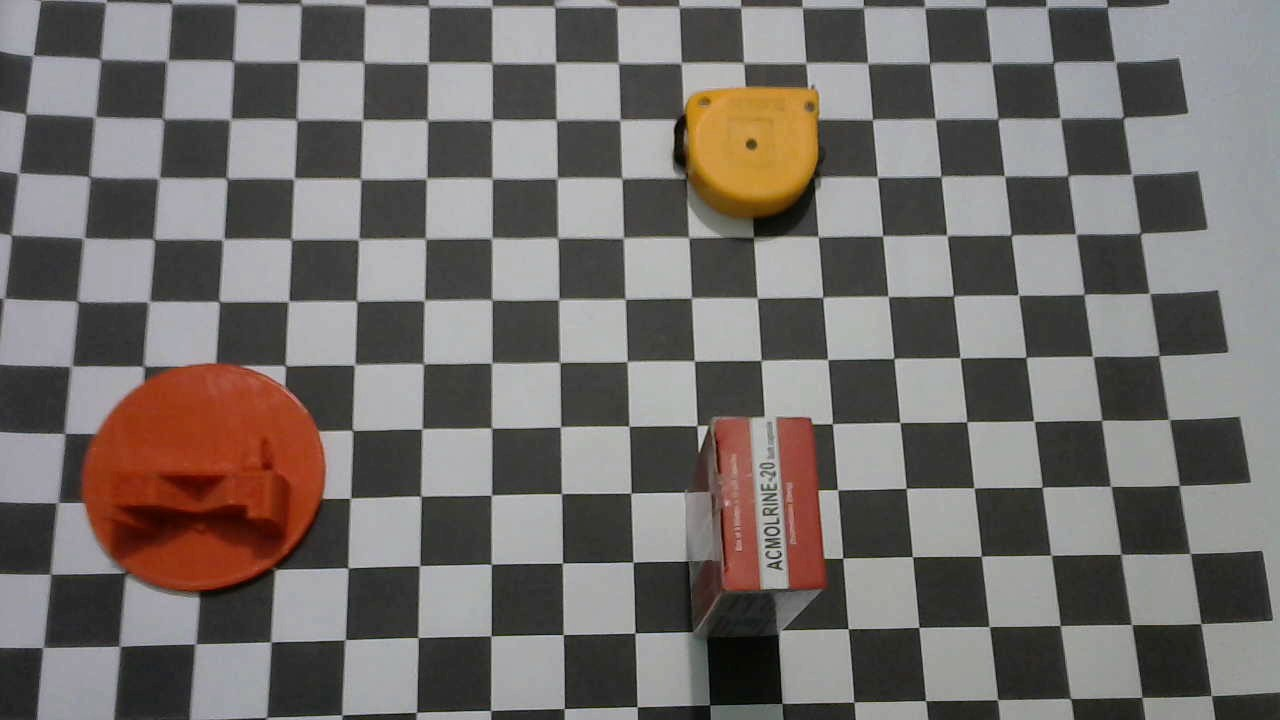blue: (674, 86, 825, 216)
green: (81, 365, 325, 592)
red: (681, 416, 827, 638)
